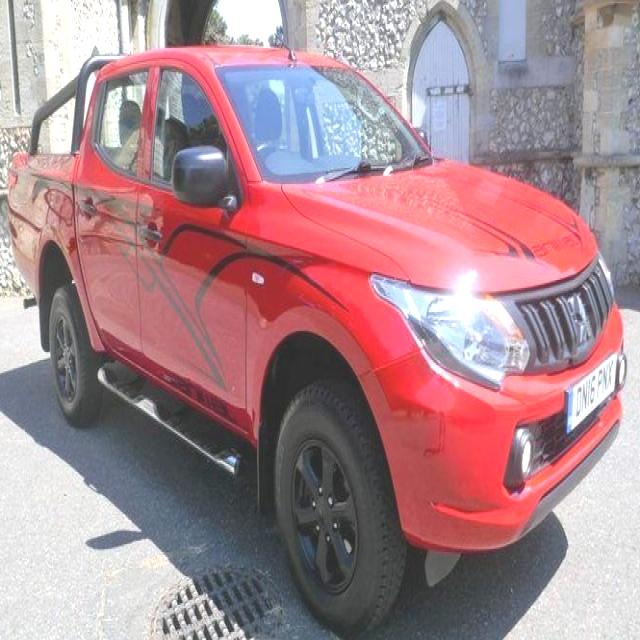CMT: (4, 47, 629, 626)
